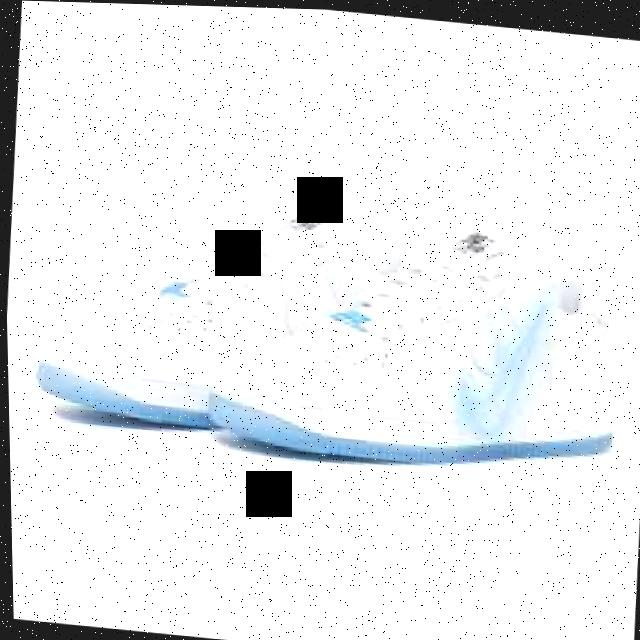shoes: (26, 180, 626, 482), (199, 204, 623, 483)
